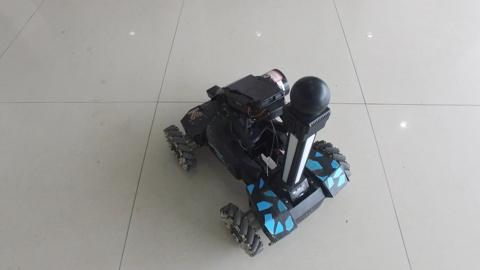chariot: (162, 74, 335, 246)
